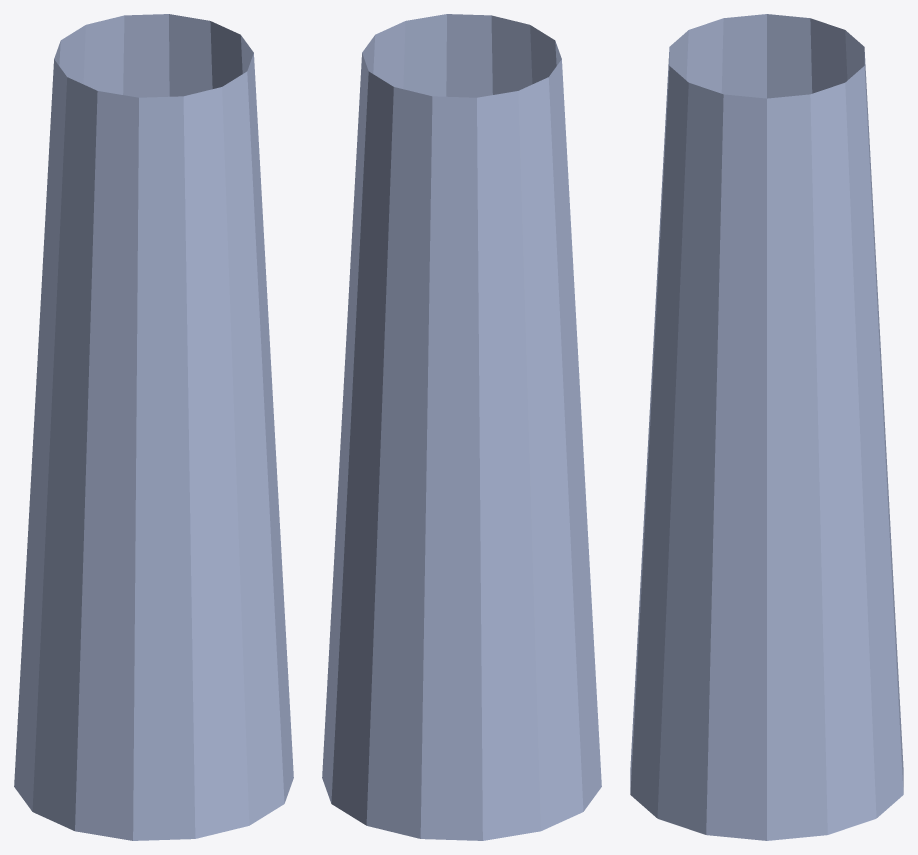
The model's file is Moon shaft.fbx.
3 renders of one model, left to right at view 1: azimuth 30°, elevation 25°; view 2: azimuth 150°, elevation 25°; view 3: azimuth 270°, elevation 25°, orthographic.
Visible parts, largest first — view 1: Moon shaft; view 2: Moon shaft; view 3: Moon shaft.
Part boxes in pixels (<box>): Moon shaft: <box>14,14,293,840</box>; Moon shaft: <box>322,14,601,840</box>; Moon shaft: <box>630,14,903,840</box>.
Size of the model in its own units: 2.1 by 6 by 2.05.
